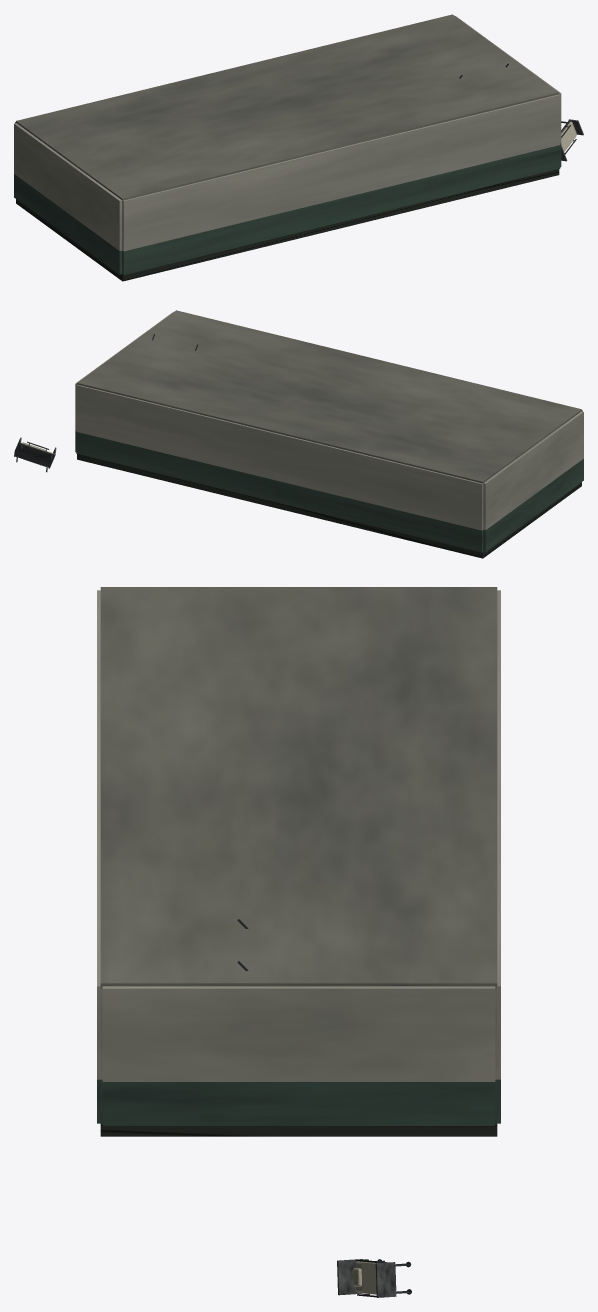
File: hospital_1f.glb
3 views of the same model, one above another, from view 1: azimuth 30°, elevation 25°; view 2: azimuth 150°, elevation 25°; view 3: azimuth 270°, elevation 25° (orthographic). The views are drawn at different scales.
Parts seen in each view (by area): view 1: WALL_CEILING_slab, W_north_hi, W_north_lo, W_west_hi, WALL_FLOOR_slab, W_west_lo; view 2: WALL_CEILING_slab, W_south_hi, W_south_lo, W_west_hi, WALL_FLOOR_slab, W_west_lo, BED_DZ_tipped_frame; view 3: WALL_CEILING_slab, W_east_hi, W_east_lo, WALL_FLOOR_slab, W_north_hi, W_south_hi.
Part boxes in pixels (x1,y1,x2,y2): WALL_CEILING_slab: (16, 14, 559, 201); W_north_hi: (122, 94, 560, 251); W_north_lo: (122, 145, 560, 275); W_west_hi: (14, 123, 122, 250); WALL_FLOOR_slab: (16, 169, 559, 281); W_west_lo: (14, 174, 122, 274); WALL_CEILING_slab: (77, 310, 581, 484); W_south_hi: (76, 384, 483, 530); W_south_lo: (76, 432, 483, 552); W_west_hi: (483, 411, 583, 530); WALL_FLOOR_slab: (77, 454, 581, 558); W_west_lo: (483, 458, 583, 552); BED_DZ_tipped_frame: (15, 443, 54, 467); WALL_CEILING_slab: (100, 587, 497, 989); W_east_hi: (102, 986, 495, 1081); W_east_lo: (102, 1082, 495, 1125); WALL_FLOOR_slab: (100, 1123, 497, 1136); W_north_hi: (97, 590, 102, 1079); W_south_hi: (495, 590, 500, 1079).
Bounding box in the file's own units: 32.06 × 7.97 × 11.2.
26 materials, 7 textured.
